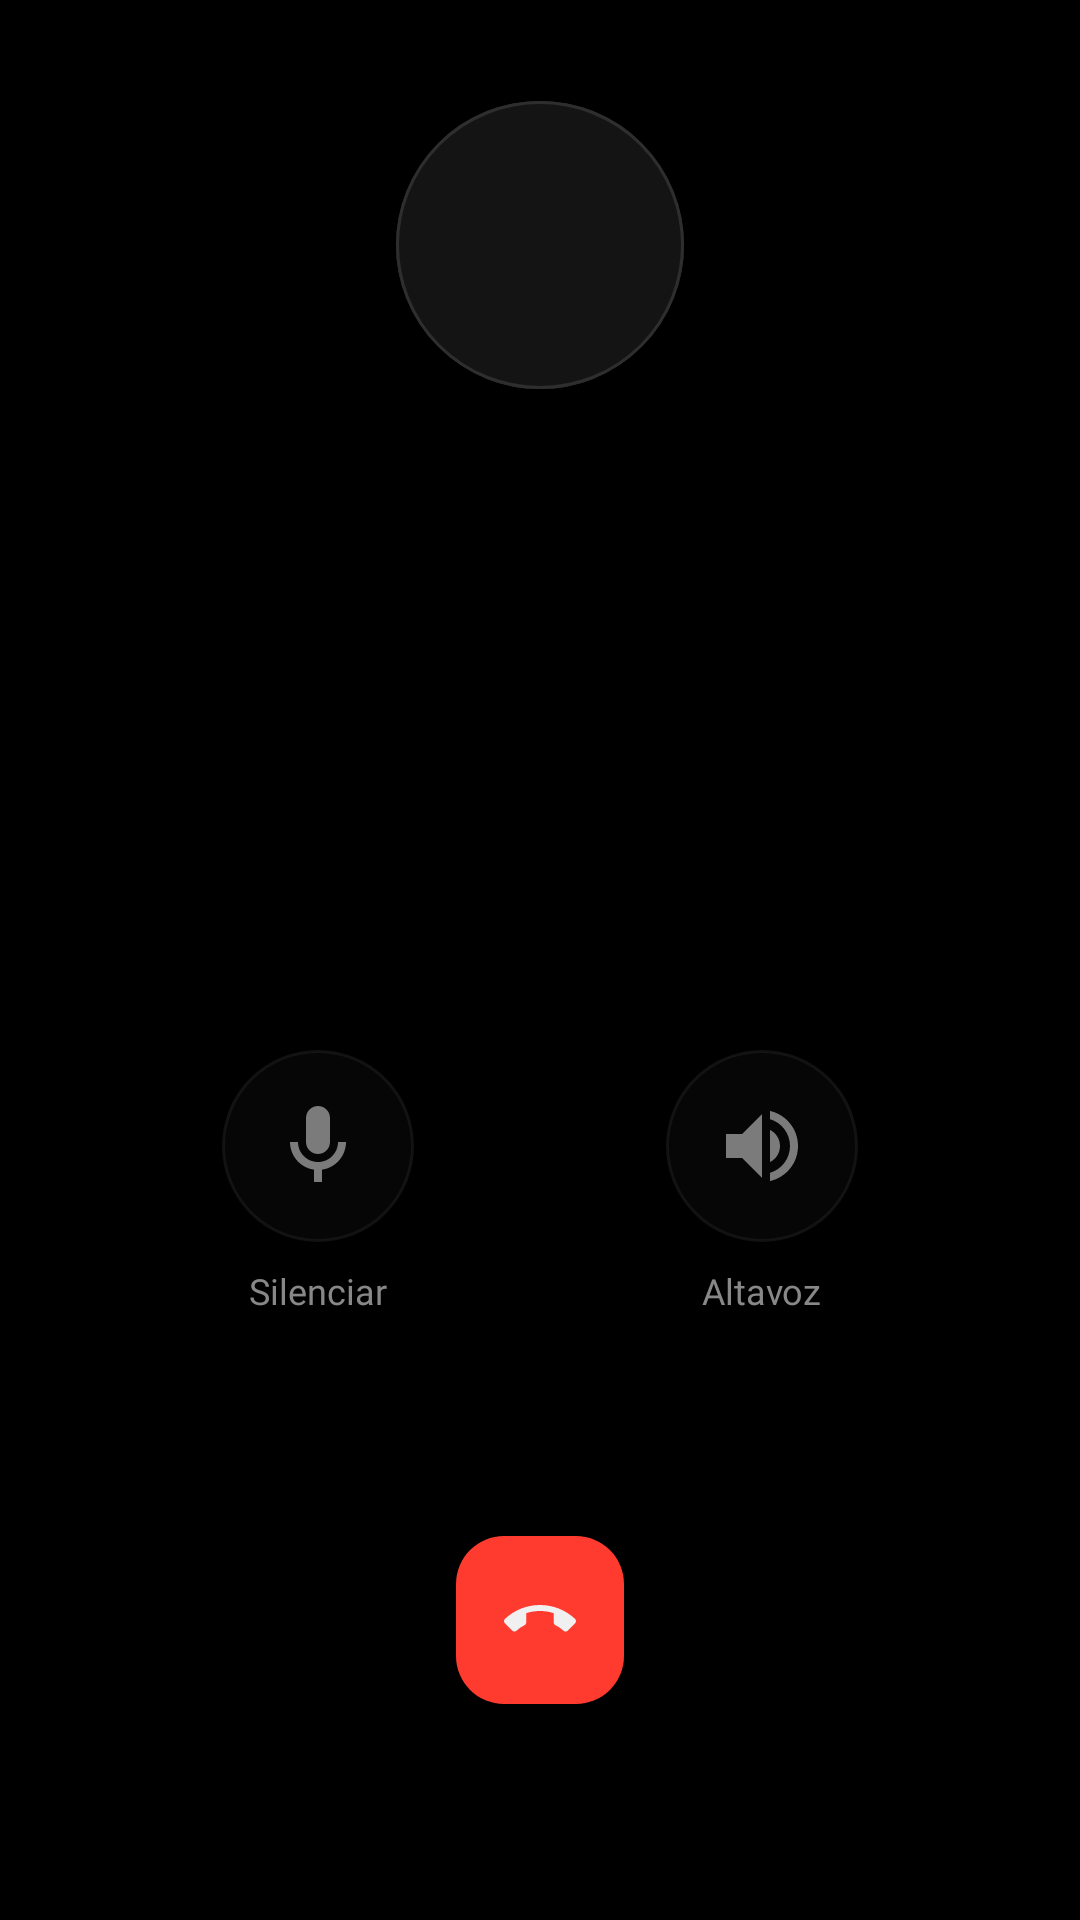

Screen size 1080 x 1920. Icon name, then its box in pixels as bbox(x1, y1, x2, y2):
Colgar: bbox(456, 1536, 624, 1704)
